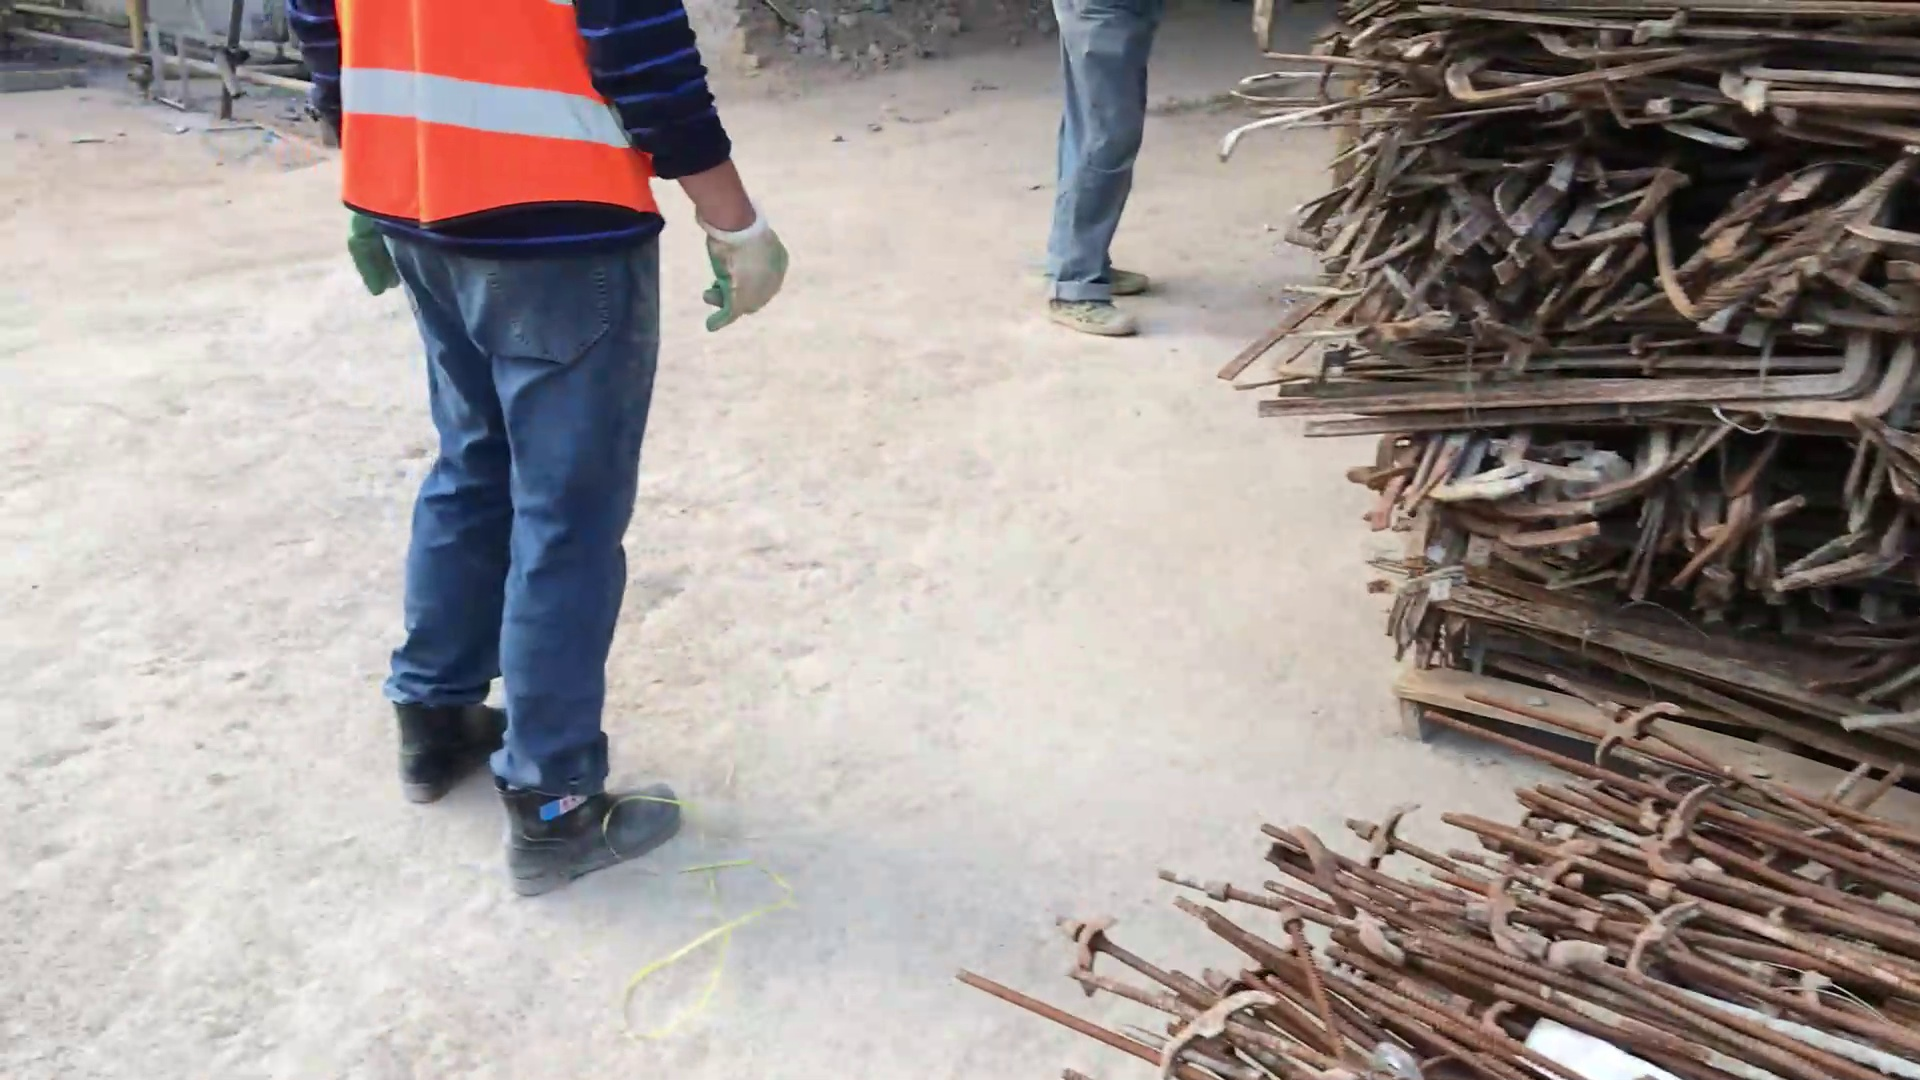person: (279, 1, 798, 897), (1019, 1, 1178, 338)
vest: (328, 1, 693, 250)
